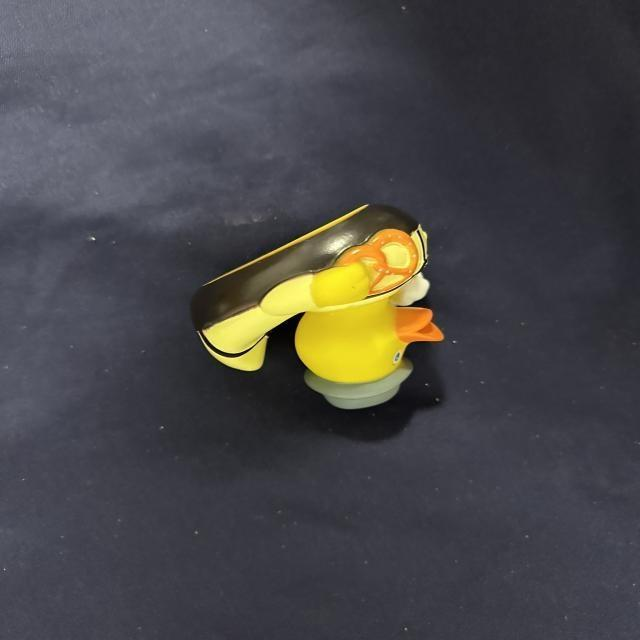rubber-duck: (190, 204, 441, 407)
